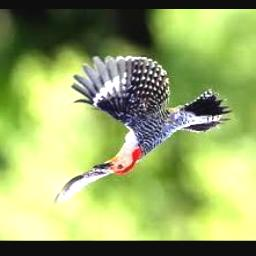Woodpecker: (53, 56, 231, 207)
